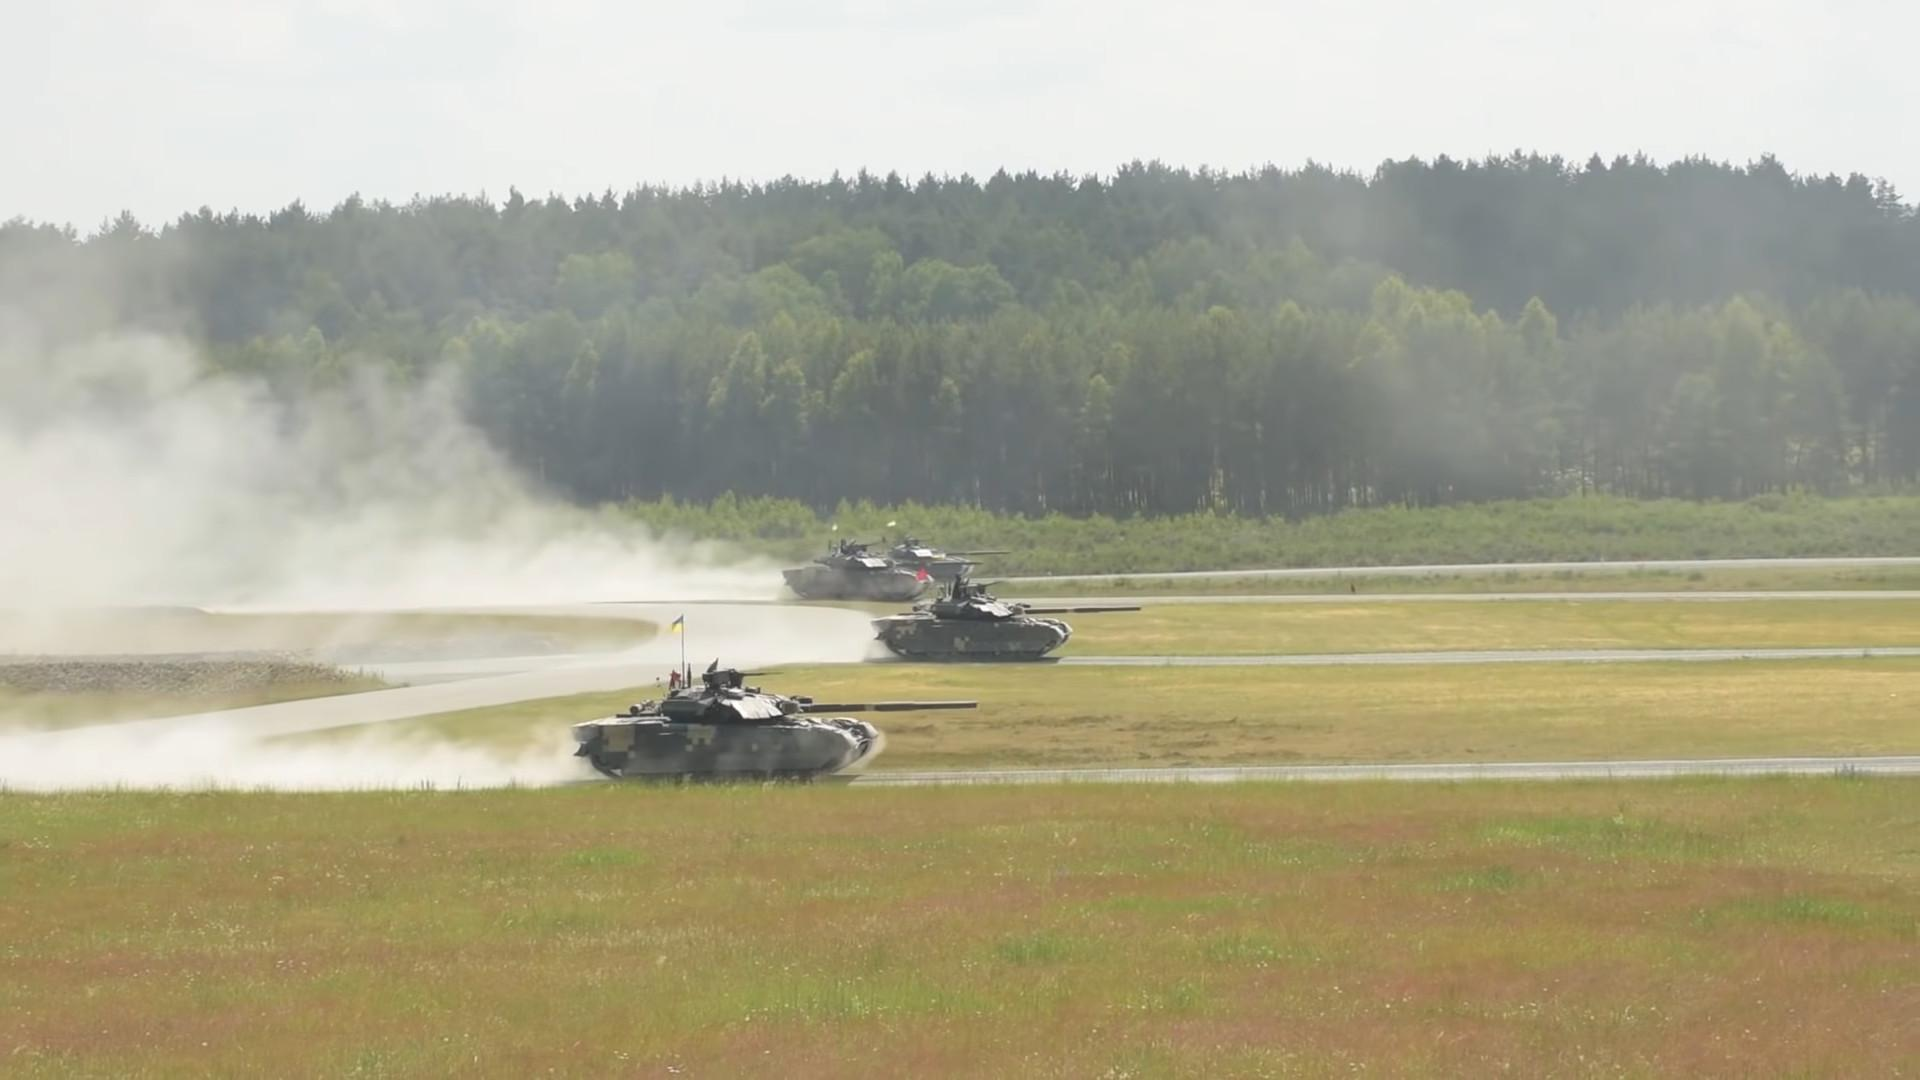tank: (571, 667, 977, 786), (873, 584, 1141, 661), (783, 546, 982, 601), (882, 539, 1010, 578)
